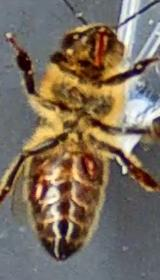varroa_mite: (71, 150, 104, 186), (18, 175, 46, 204)
